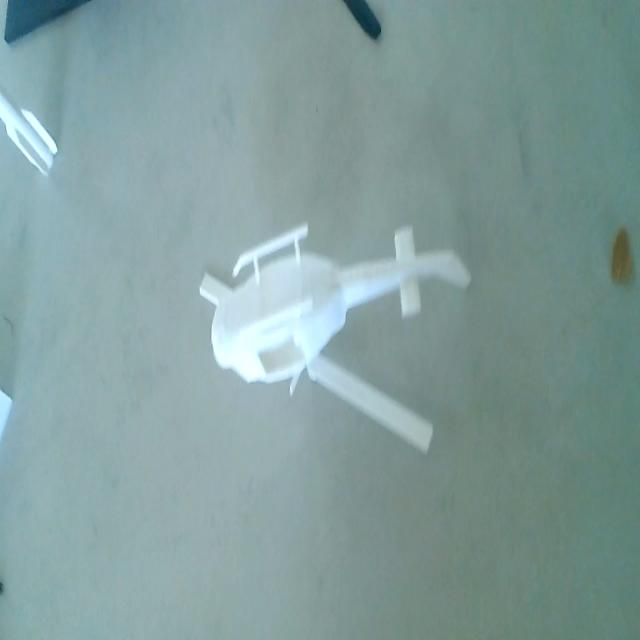Helicopter: (191, 222, 475, 472)
Rocket: (0, 81, 65, 180)
